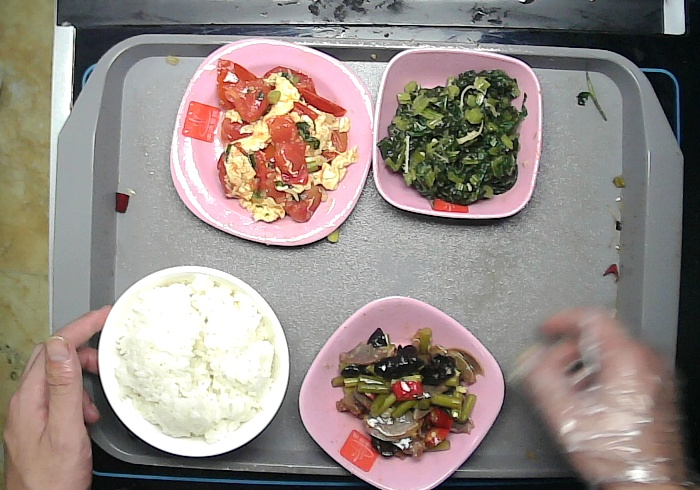SHKJ-Fan_Wan: (96, 261, 294, 461)
SHKJ-Fen_Se_Cai_Die: (298, 294, 509, 490)
SHKJ-Fen_Se_Si_Fang_Cai_Die: (163, 35, 378, 252)
SHKJ-Fen_Se_Xiao_Fang_Die: (369, 48, 547, 225)
